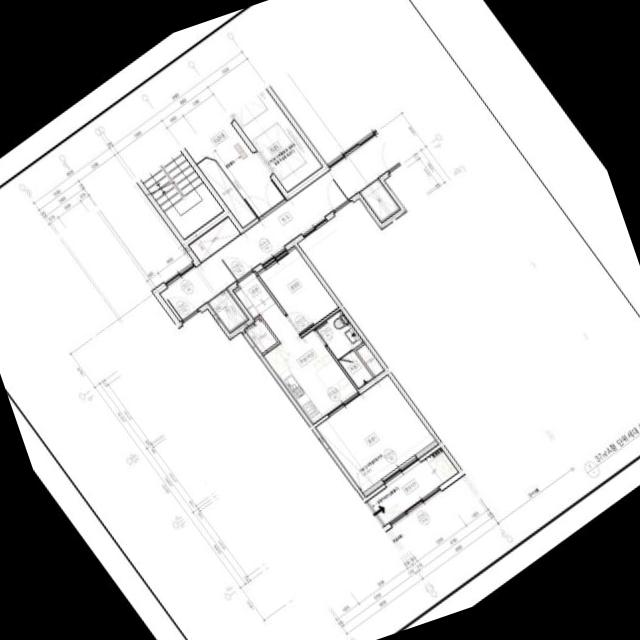background: (0, 0, 640, 640)
space_balconi: (367, 447, 457, 524)
space_bedroom: (315, 374, 437, 496), (256, 245, 338, 333)
space_elevator: (245, 109, 321, 191), (230, 88, 280, 134)
space_elevator_hall: (159, 133, 398, 320), (184, 114, 284, 217)
space_front: (232, 271, 275, 318)
space_kitchen: (259, 302, 357, 423)
space_other: (196, 157, 256, 227), (188, 216, 239, 261), (207, 288, 248, 332), (359, 178, 400, 222), (244, 317, 276, 352), (356, 343, 383, 375)
space_staircase: (140, 150, 223, 238)
space_toilet: (314, 309, 373, 387)
